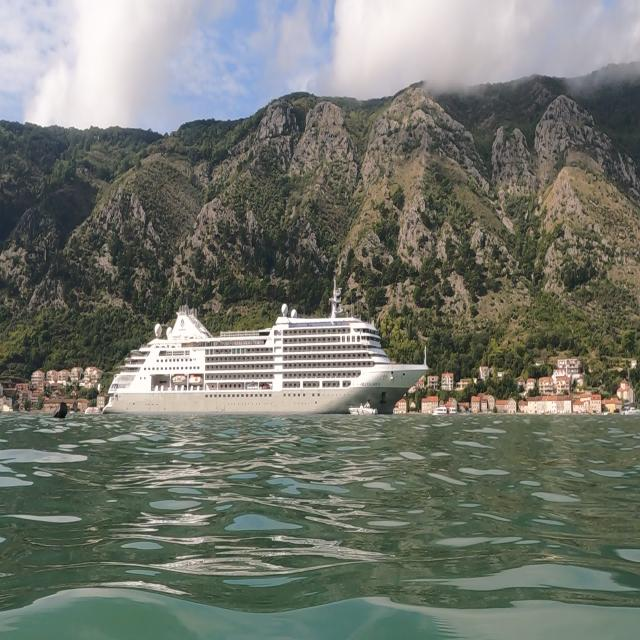boat: (99, 272, 431, 418)
buoy: (50, 399, 70, 424)
